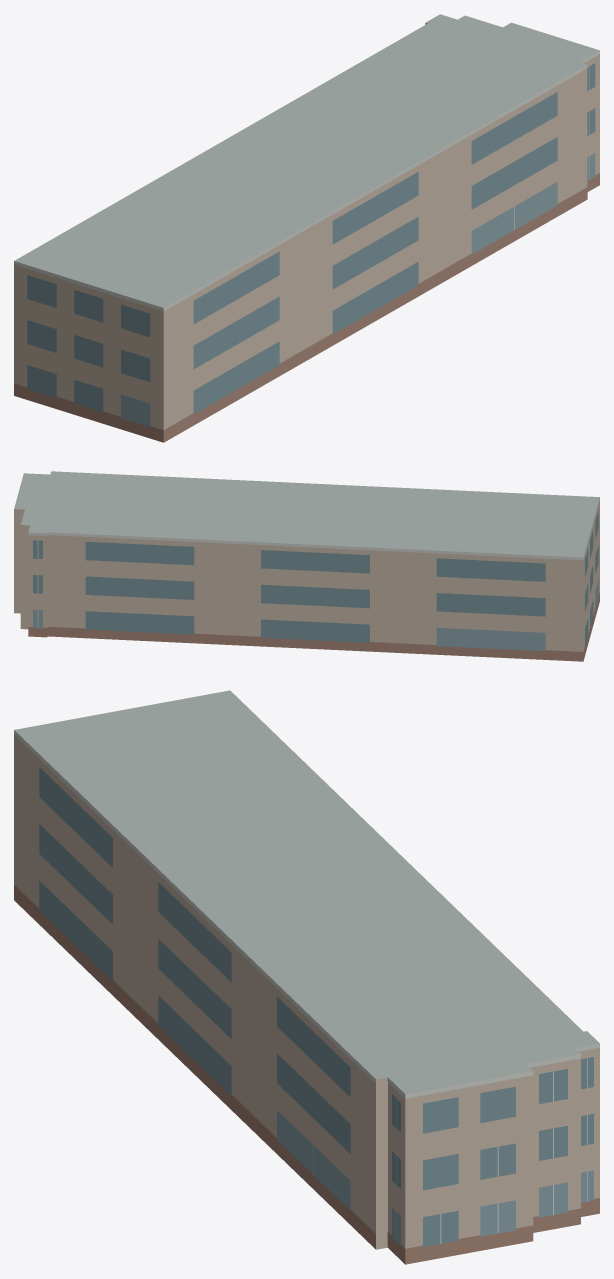
The model's file is survey-upis-32835754.glb.
3 renders of one model, top to bottom at view 1: azimuth 30°, elevation 25°; view 2: azimuth 150°, elevation 25°; view 3: azimuth 270°, elevation 25°, orthographic. The views are drawn at different scales.
Visible parts, largest first — view 1: survey-upis-32835754.tmp; view 2: survey-upis-32835754.tmp; view 3: survey-upis-32835754.tmp.
Boxes of the visible parts, left/top/right/bottom form: survey-upis-32835754.tmp: left=14, top=14, right=599, bottom=442; survey-upis-32835754.tmp: left=14, top=471, right=599, bottom=661; survey-upis-32835754.tmp: left=14, top=690, right=599, bottom=1264.
Size of the model in its own units: 46.54 by 9.15 by 28.53.
